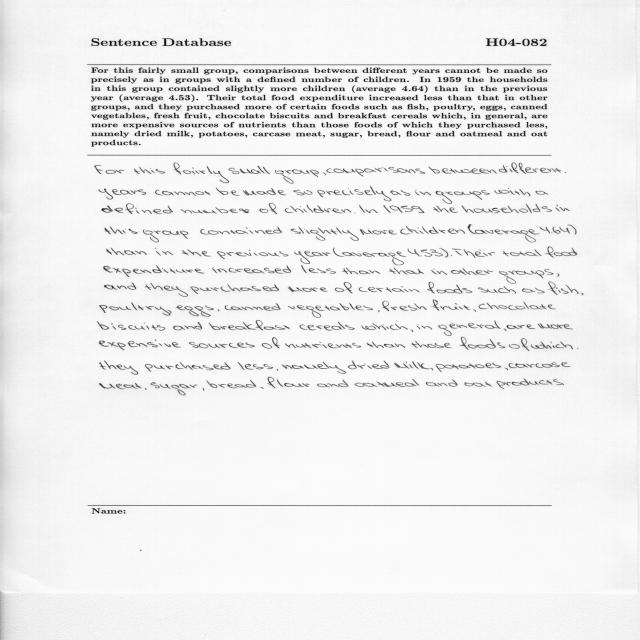word: (288, 303, 373, 318), (174, 163, 230, 183), (317, 186, 391, 201), (104, 266, 204, 277), (291, 226, 359, 241), (100, 302, 172, 316), (439, 320, 501, 336), (327, 167, 426, 177), (99, 340, 181, 351), (342, 252, 406, 266), (190, 284, 279, 294), (145, 362, 231, 372), (499, 269, 554, 284), (462, 204, 552, 213), (209, 320, 290, 330), (102, 203, 173, 214), (282, 362, 347, 374), (436, 190, 490, 204), (522, 338, 579, 351), (499, 163, 566, 174), (479, 301, 556, 310), (151, 383, 204, 396), (98, 321, 166, 331), (200, 227, 282, 235), (436, 362, 501, 372), (217, 250, 289, 259), (212, 266, 291, 274), (496, 378, 553, 389), (275, 170, 319, 184), (145, 283, 188, 297), (494, 230, 540, 243), (460, 337, 506, 350), (143, 230, 188, 243), (428, 166, 497, 174), (100, 361, 138, 375), (285, 205, 351, 213), (400, 226, 465, 234), (355, 379, 420, 387), (99, 189, 146, 200), (427, 282, 472, 293), (300, 322, 355, 331), (181, 207, 250, 214), (294, 251, 331, 264), (267, 377, 310, 388), (285, 342, 361, 348), (382, 301, 427, 311), (225, 303, 281, 311), (432, 300, 471, 311), (359, 286, 419, 293), (547, 282, 579, 295), (189, 342, 255, 348), (509, 362, 571, 368), (455, 249, 495, 258), (545, 247, 577, 258), (243, 188, 286, 196), (155, 190, 210, 196), (184, 306, 214, 317), (361, 323, 408, 330), (229, 166, 270, 174), (384, 205, 425, 213), (348, 361, 389, 369), (301, 265, 336, 274), (342, 267, 380, 275), (218, 380, 256, 388), (451, 268, 493, 275), (495, 188, 531, 196), (394, 361, 430, 369), (107, 248, 147, 255), (412, 341, 452, 348), (238, 362, 273, 370), (503, 249, 541, 256), (478, 286, 516, 293), (105, 227, 138, 235), (95, 165, 124, 174), (468, 225, 494, 235), (105, 282, 137, 290), (317, 380, 349, 388), (426, 379, 458, 387), (100, 383, 142, 389), (389, 268, 424, 275), (288, 286, 328, 292), (182, 249, 211, 257), (173, 322, 202, 330), (367, 342, 405, 348), (360, 229, 397, 235), (430, 248, 452, 258), (134, 167, 165, 174), (408, 248, 432, 257), (537, 323, 573, 329), (262, 337, 280, 349), (540, 227, 570, 234), (259, 204, 277, 215), (335, 282, 353, 293), (216, 188, 240, 196), (433, 206, 458, 213), (359, 205, 378, 213), (155, 248, 173, 256), (507, 324, 535, 329), (522, 288, 545, 294), (465, 382, 492, 387), (390, 190, 410, 196), (555, 205, 570, 212), (415, 190, 432, 196), (333, 248, 344, 257), (431, 269, 447, 275), (294, 190, 313, 195), (568, 225, 577, 235), (417, 324, 432, 330), (207, 380, 218, 388), (553, 379, 564, 385), (509, 344, 520, 349), (536, 191, 548, 195), (176, 305, 185, 310), (557, 273, 560, 277), (323, 173, 326, 176), (452, 249, 461, 250), (473, 309, 476, 312), (410, 330, 413, 332), (504, 329, 507, 331), (430, 368, 433, 370), (505, 368, 508, 370), (261, 387, 264, 389), (581, 293, 583, 295), (218, 310, 220, 312), (378, 310, 380, 312), (277, 369, 279, 371), (145, 388, 147, 390), (355, 213, 356, 213)
